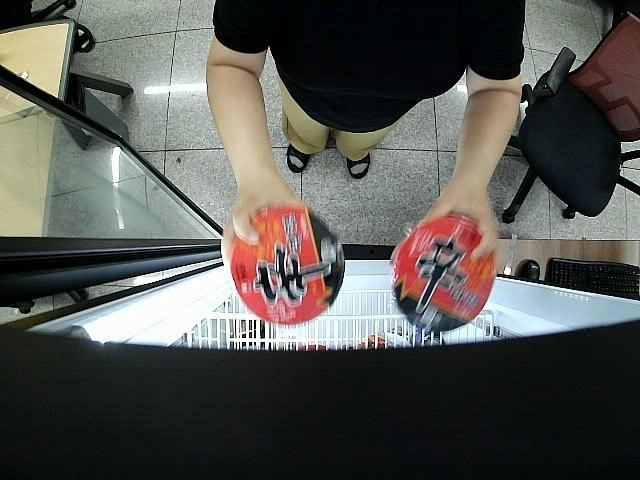01_ShinRamen_L: (229, 206, 344, 324), (390, 215, 494, 332)
